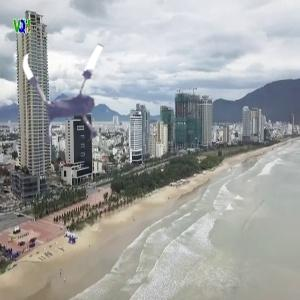drone: (9, 33, 136, 160)
